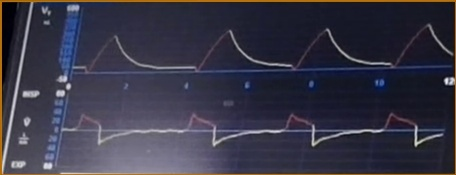Flow: (67, 109, 444, 169)
Leakage Volume: (75, 16, 452, 76)
